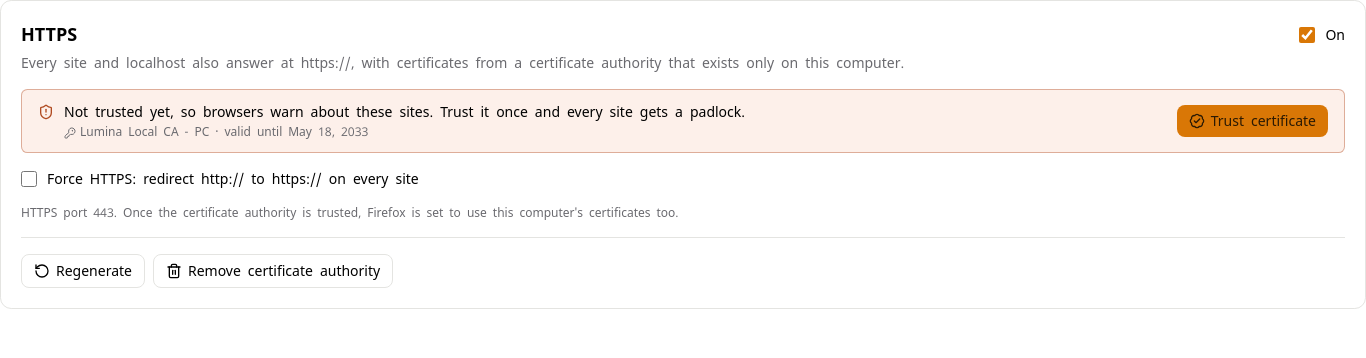
HttpsCard › asks to trust an untrusted CA and reports a declined prompt
Expected: the text "Not trusted yet" is shown, top-left (64, 103), bottom-right (745, 121)
Click the button "Trust certificate" at (1252, 121), box top-left (1177, 105), bottom-right (1328, 137)
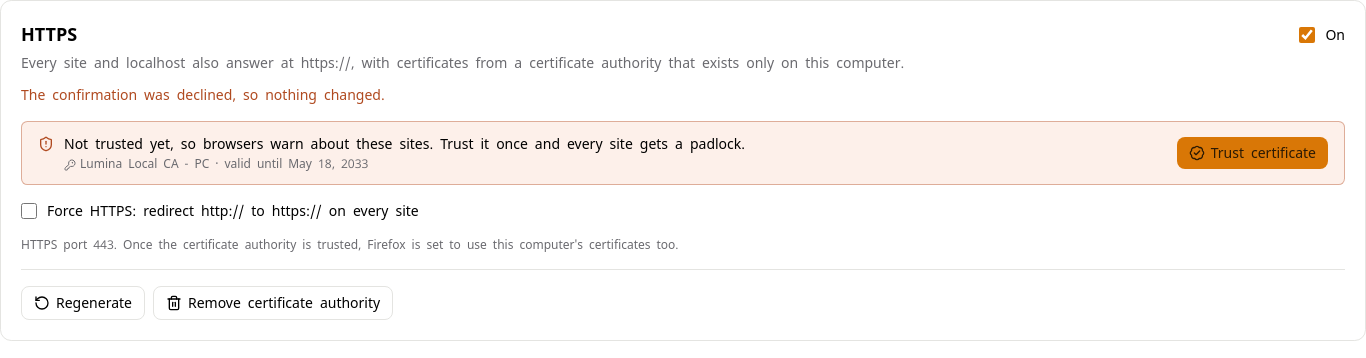
Now the text "The confirmation was declined, so nothing changed." is shown, box top-left (21, 86), bottom-right (385, 104)
